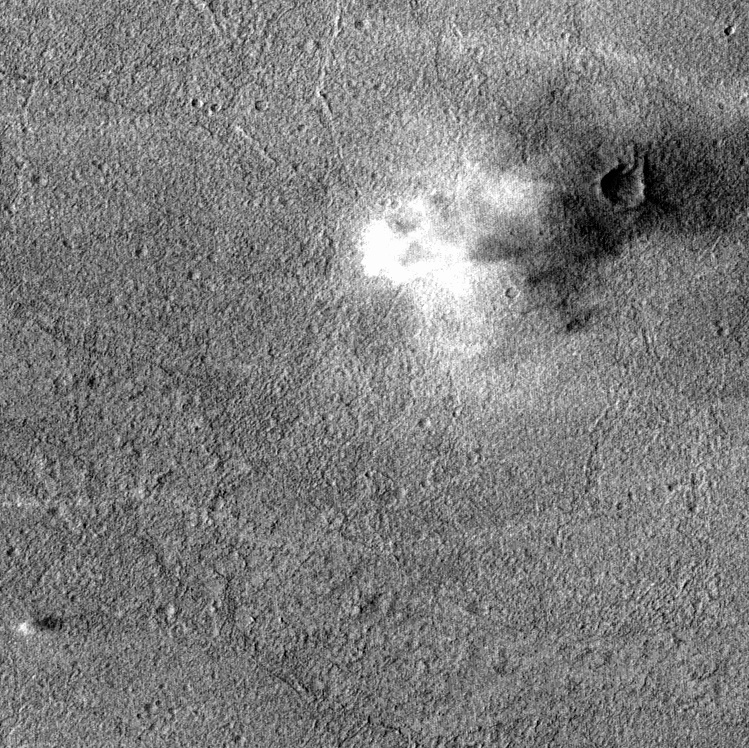dust_devil: (355, 98, 749, 353), (15, 612, 68, 637)
